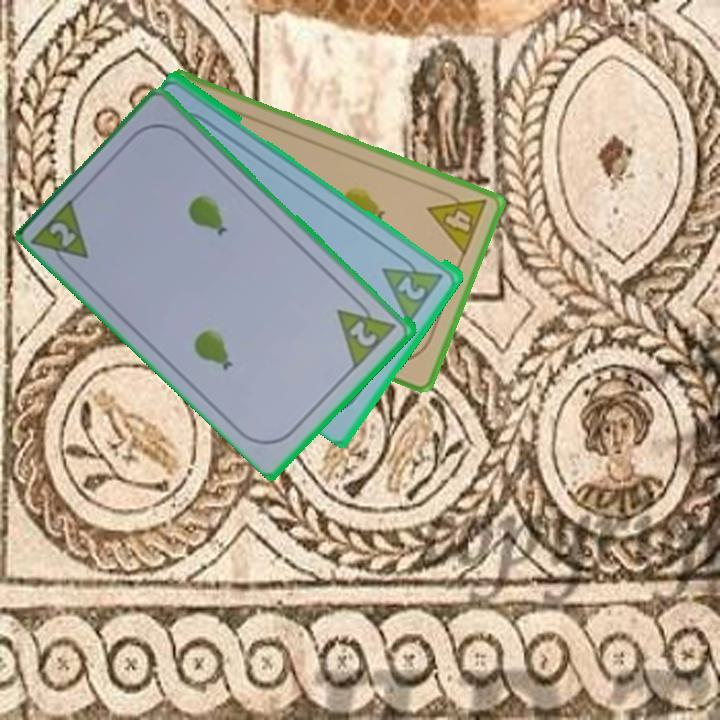2p: (334, 291, 401, 370), (46, 218, 80, 251), (394, 272, 429, 303)
4p: (424, 184, 490, 259)
